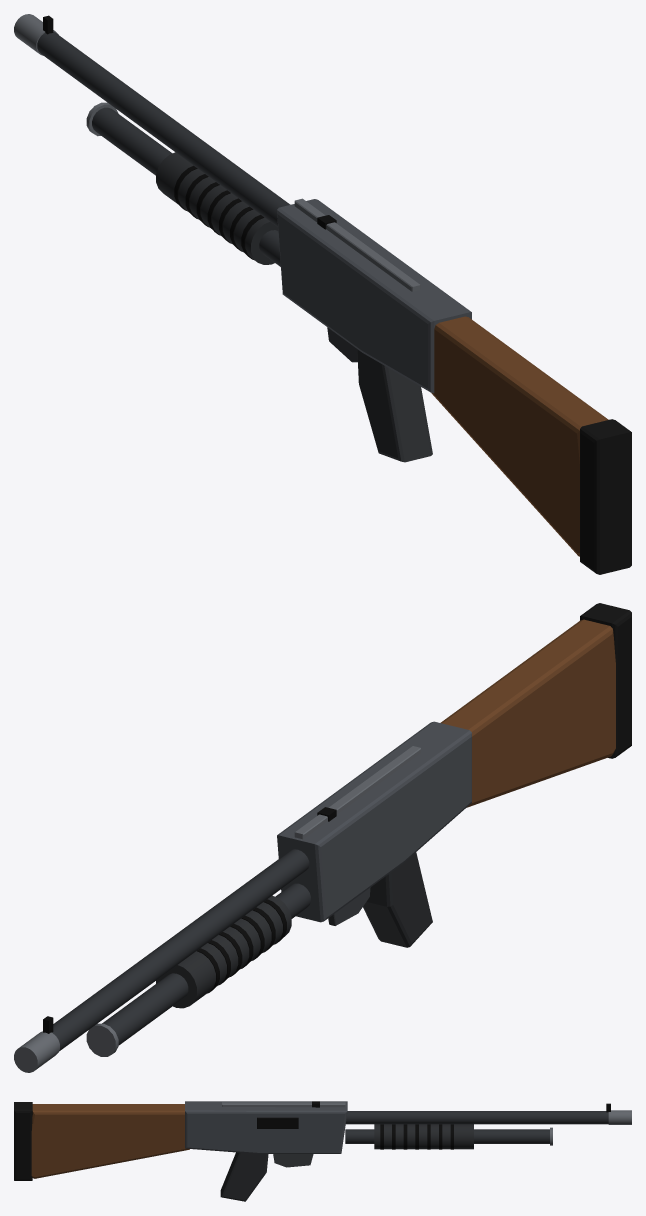
Rendered from SG12_shotgun.glb.
The picture shows the model from 3 angles, top to bottom: view 1: azimuth 30°, elevation 25°; view 2: azimuth 150°, elevation 25°; view 3: azimuth 270°, elevation 25°; orthographic projection. The views are drawn at different scales.
Size of the model in its own units: 0.0465 by 0.1804 by 1.06.
